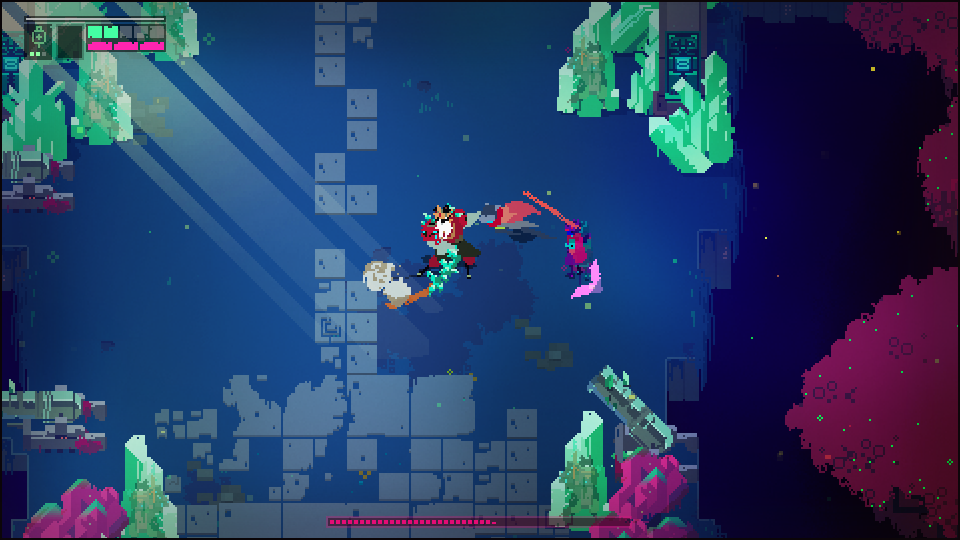hanged_man: (396, 198, 484, 298)
player: (475, 200, 545, 242)
